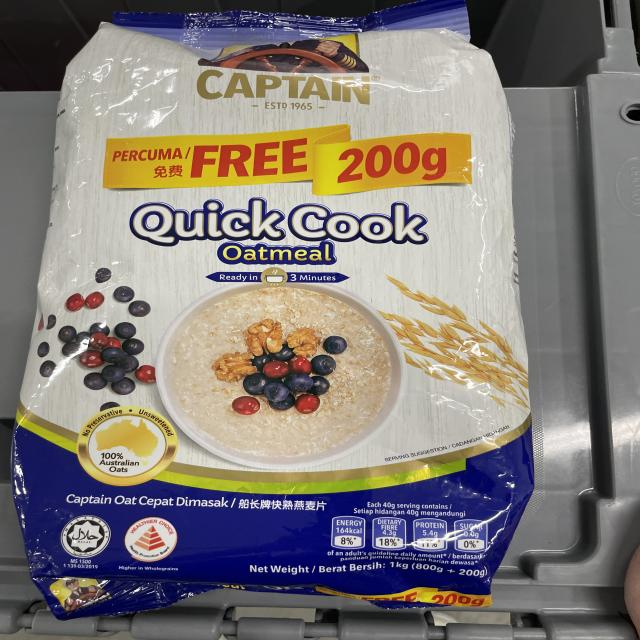object_name: (42, 21, 510, 601)
